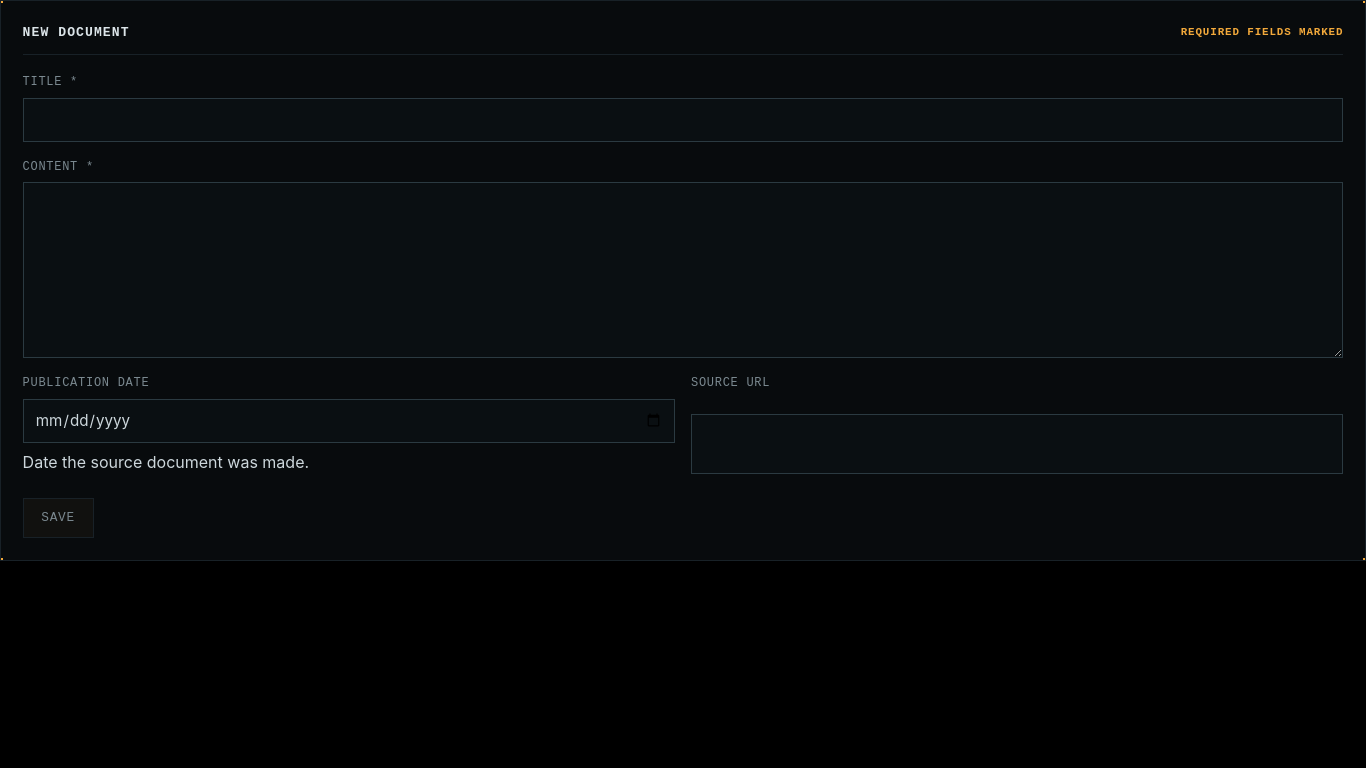
Test: DocumentForm › keeps submit disabled until title, content, and publication date are filled
Expected: the button "Save" is disabled, [23,498,94,538]
Type "Field report" into the field labelled "Title *" at (683, 120), box [23,98,1343,142]
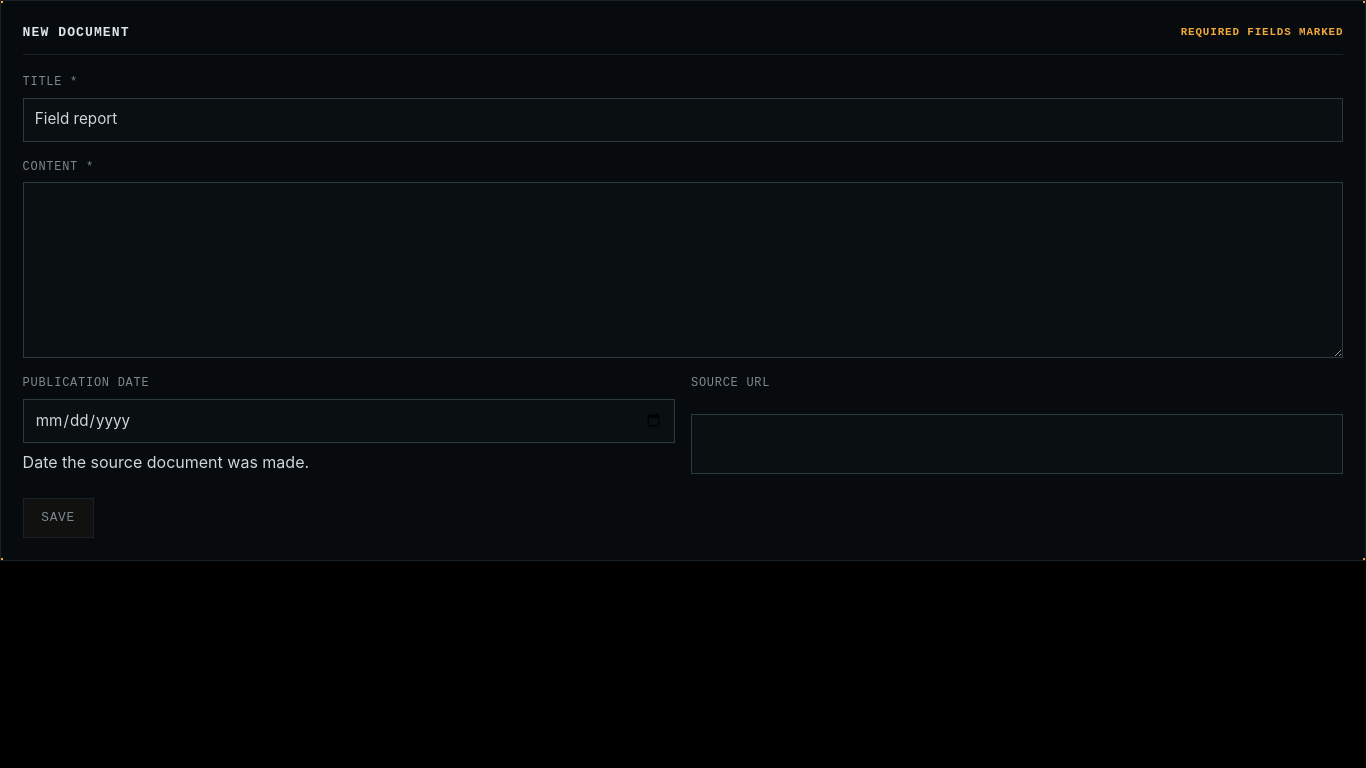
Expected: the button "Save" is disabled, [23,498,94,538]
Type "Body text" into the text box labelled "Content *" at (683, 270), box [23,182,1343,358]
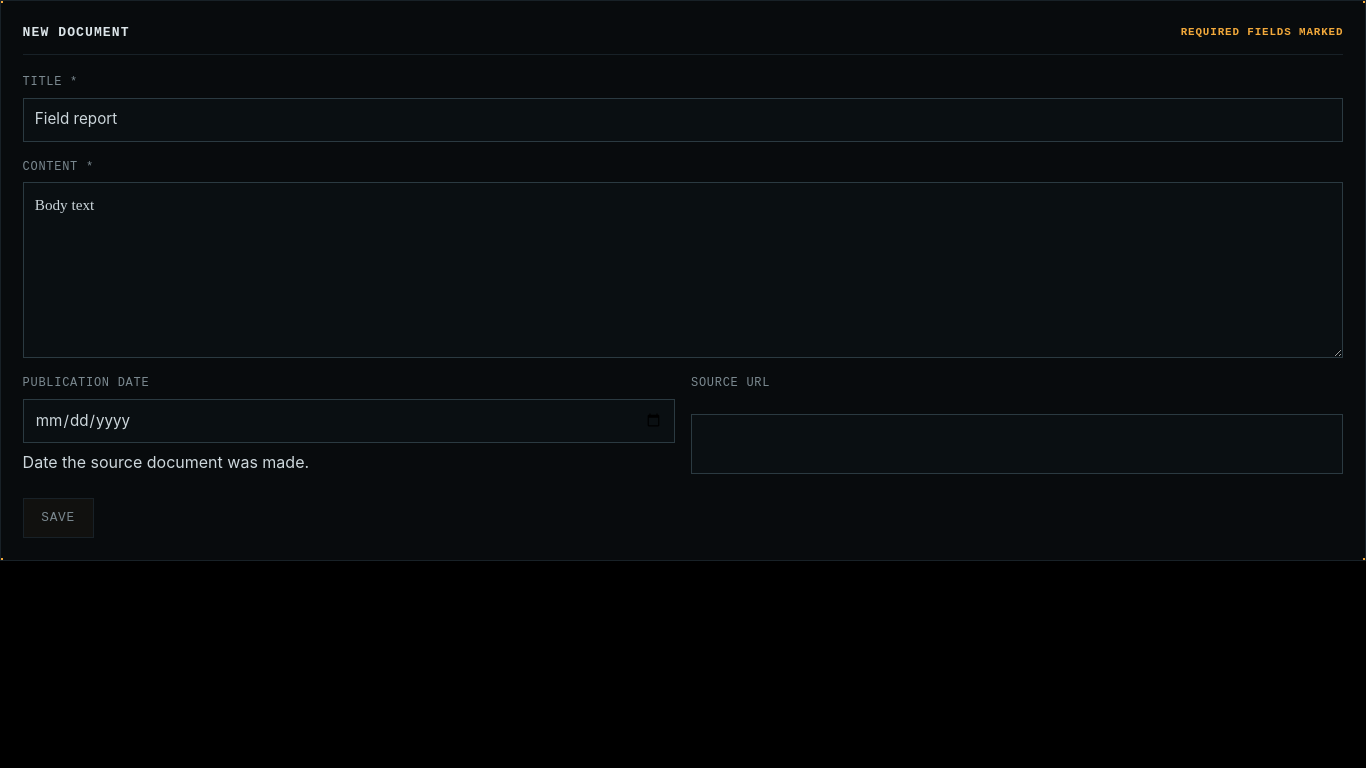
Expected: the button "Save" is disabled, [23,498,94,538]
Type "2026-07-10" into the date field labelled "Publication date" at (349, 421), box [23,399,675,443]
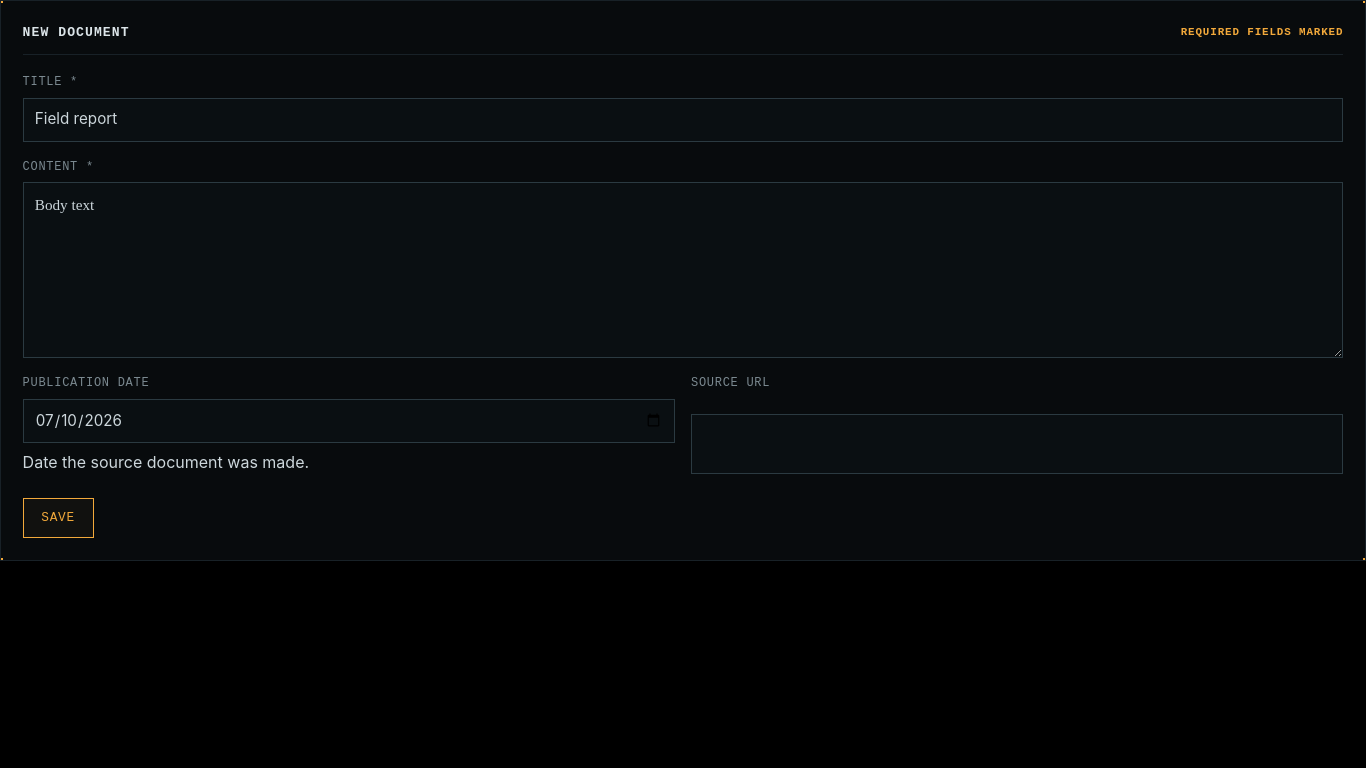
Now the button "Save" is enabled, box [23,498,94,538]
